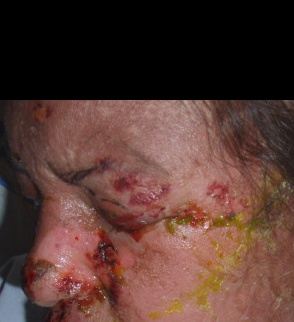SJS-TEN: (0, 97, 264, 322)
